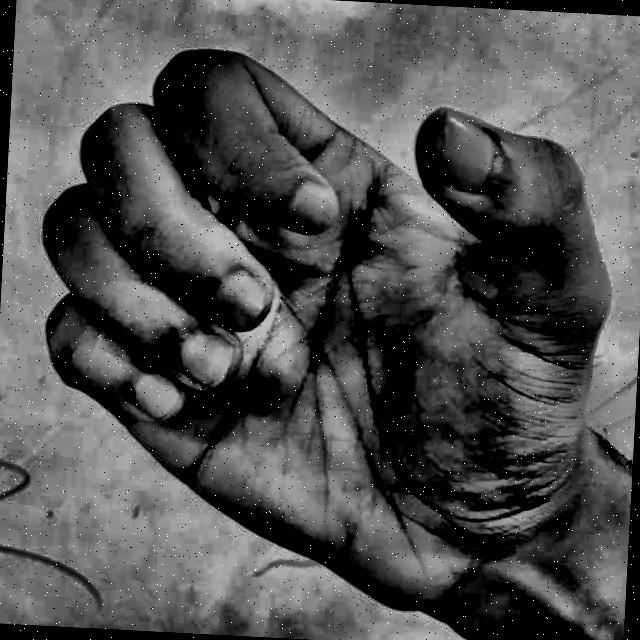Dho: (5, 23, 640, 640)
